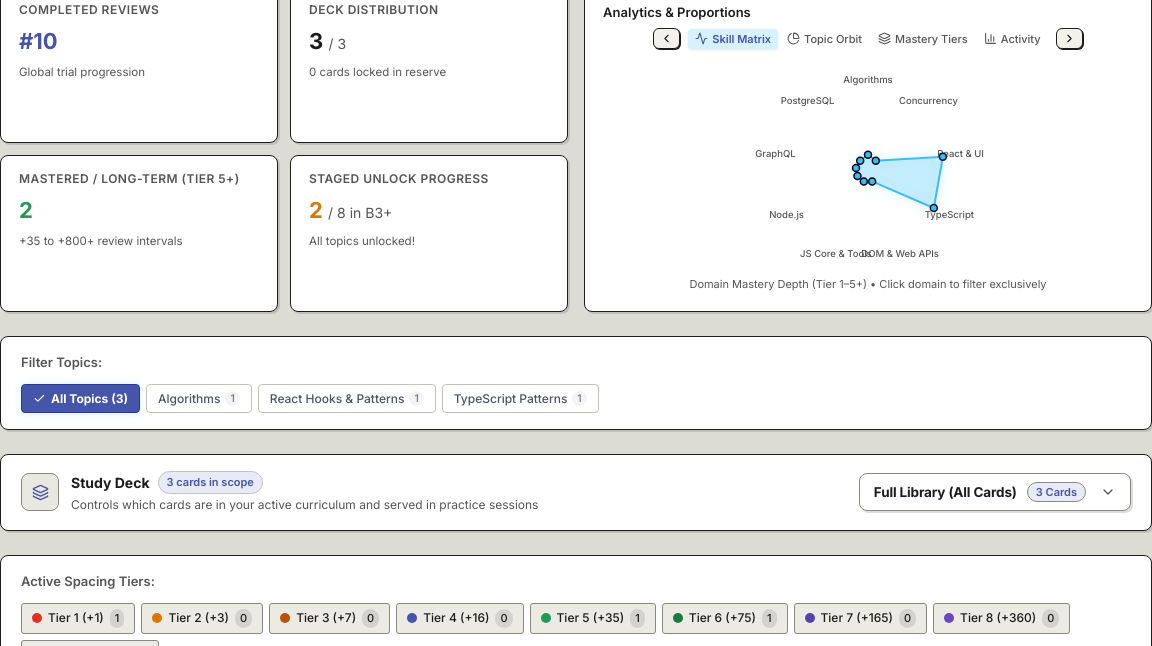
Test: DeckDashboard tier pill filtering and multiselect › supports multiselect across tier pills
# Select Tier 5
Click the button with test id "tier-pill-5" at {"x": 593, "y": 618}, box [530,603,656,634]
(page scrolled)
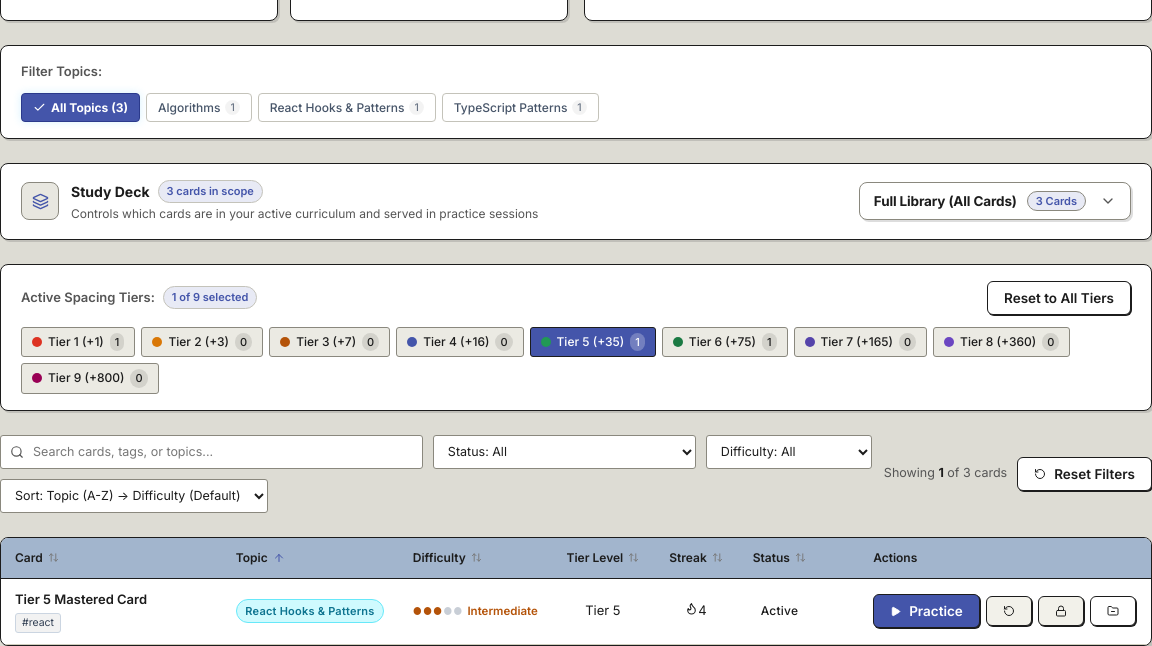
expect the text "Tier 5 Mastered Card" is shown: met, box [15,590,147,606]
expect the button with test id "tier-pill-5" is pressed: met, box [530,326,656,357]
# Select Tier 6 as well (multiselect)
Click the button with test id "tier-pill-6" at {"x": 725, "y": 342}, box [662,326,788,357]
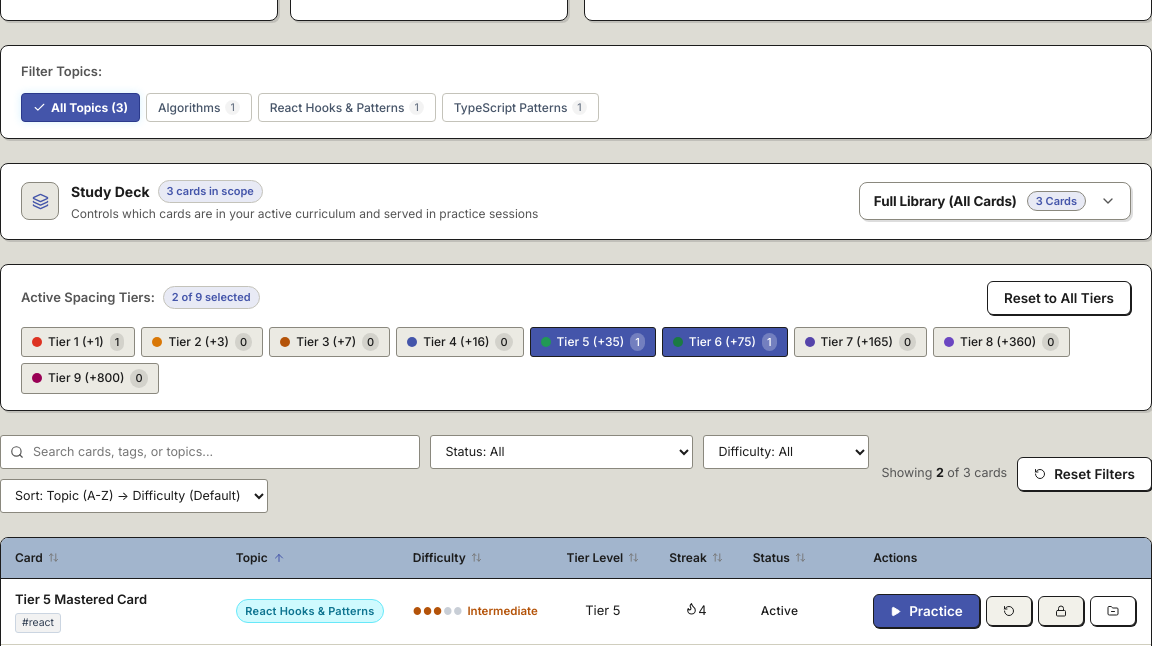
expect the text "Tier 5 Mastered Card" is shown: met, box [15,590,147,606]
expect the button with test id "tier-pill-5" is pressed: met
expect the button with test id "tier-pill-6" is pressed: met, box [662,326,788,357]
# Deselect Tier 5 by clicking it again
Click the button with test id "tier-pill-5" at {"x": 593, "y": 342}, box [530,326,656,357]
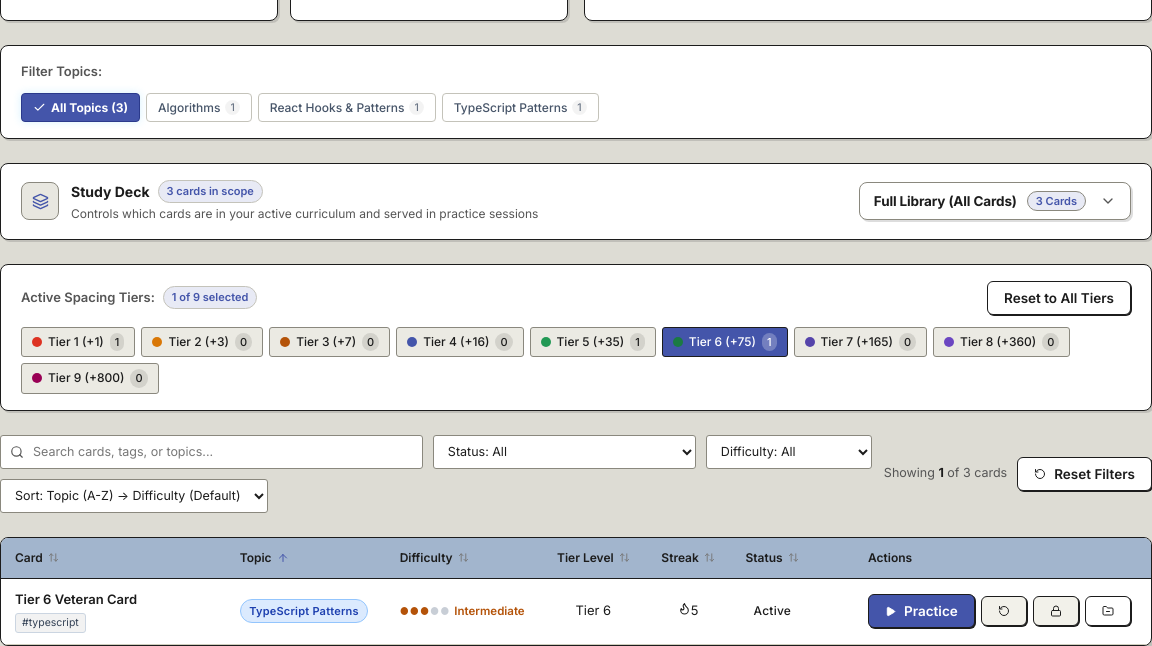
expect the text "Tier 6 Veteran Card" is shown: met, box [15,590,137,606]
expect the text "Tier 5 Mastered Card" is gone: met
Click the button with test id "tier-pill-6" at {"x": 725, "y": 342}, box [662,326,788,357]
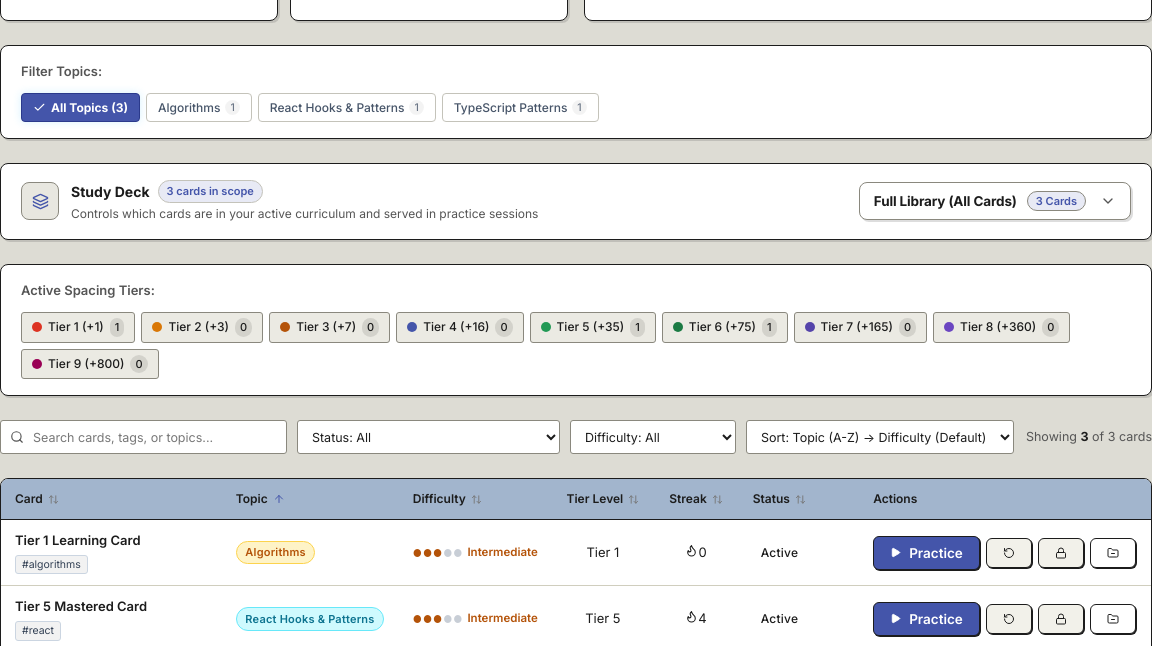
expect the text "Tier 1 Learning Card" is shown: met, box [15,532,141,548]
expect the text "Tier 5 Mastered Card" is shown: met, box [15,598,147,614]
